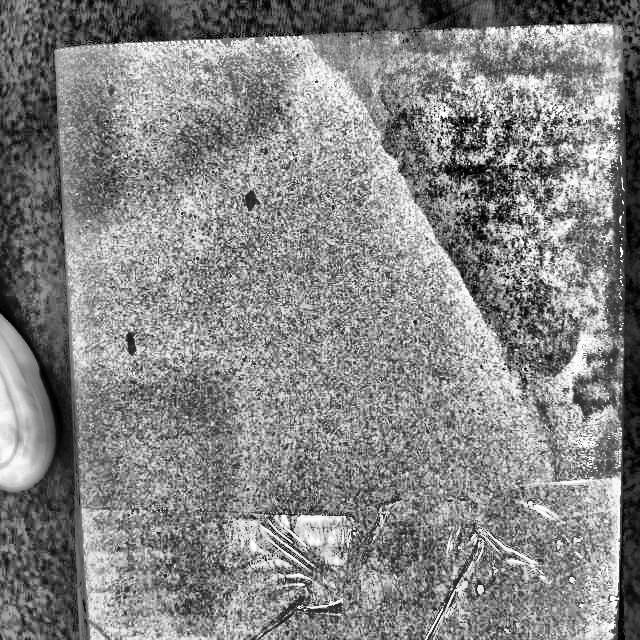box: (43, 12, 634, 635)
wet: (313, 25, 624, 470)
